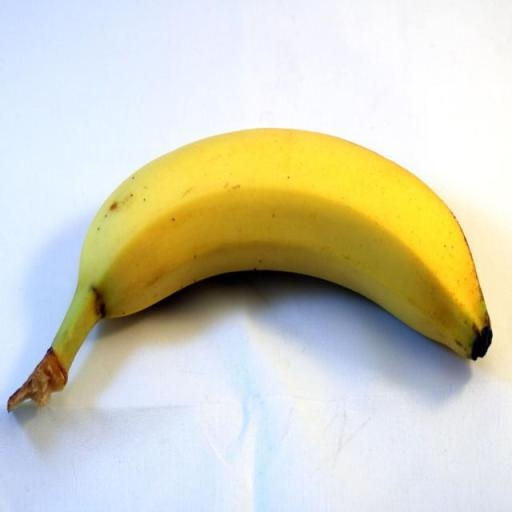fruit: (8, 129, 491, 410)
